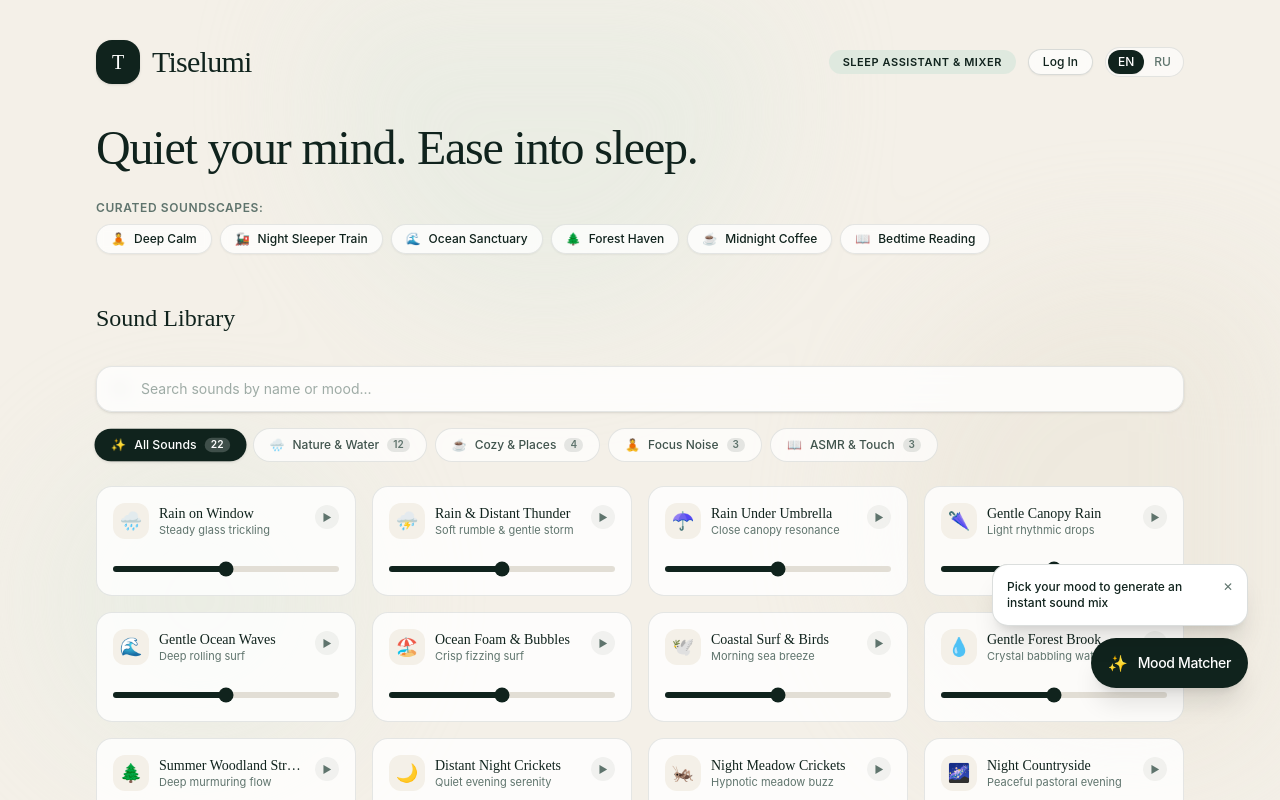
Test: App › allows switching language between English and Russian
This screenshot has width=1280, height=800.
// Switch to Russian
Click the button "RU" at (1163, 62), box x1=1144 y1=50 x2=1181 y2=74
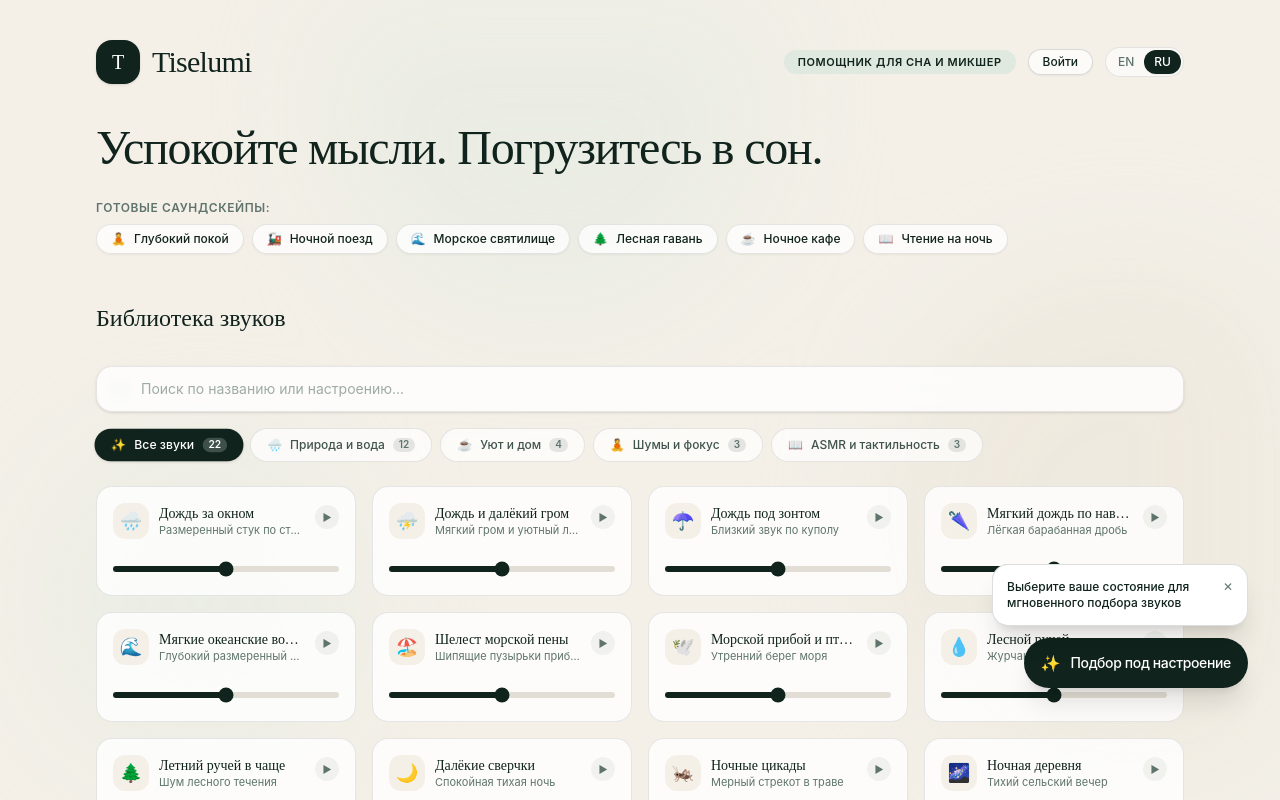
Now the heading "Успокойте мысли. Погрузитесь в сон." is shown, box x1=96 y1=121 x2=822 y2=174
Now the heading "Дождь за окном" is shown, box x1=159 y1=506 x2=254 y2=521
Now the button "🧘 Глубокий покой" is shown, box x1=96 y1=224 x2=244 y2=254
// Switch back to English
Click the button "EN" at (1126, 62), box x1=1108 y1=50 x2=1144 y2=74
(page scrolled)
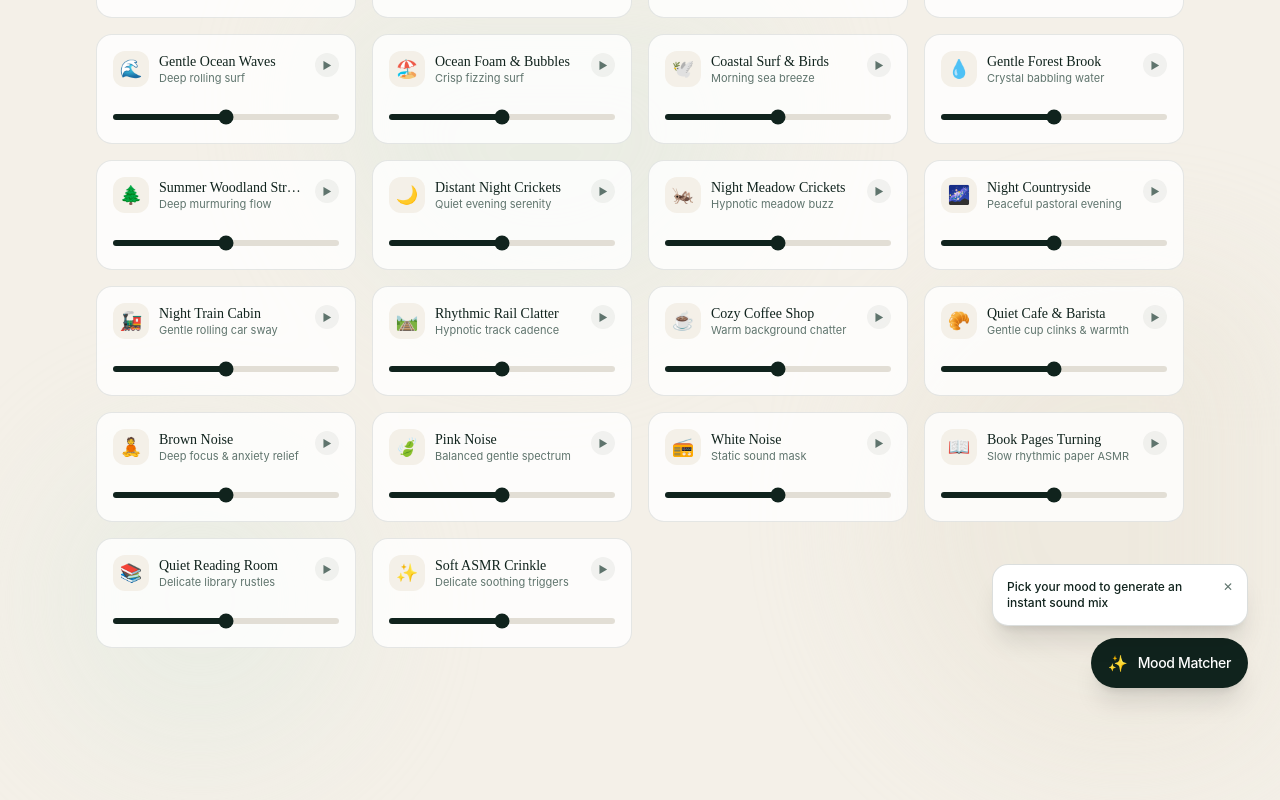
Now the heading "Brown Noise" is shown, box x1=159 y1=432 x2=233 y2=447
